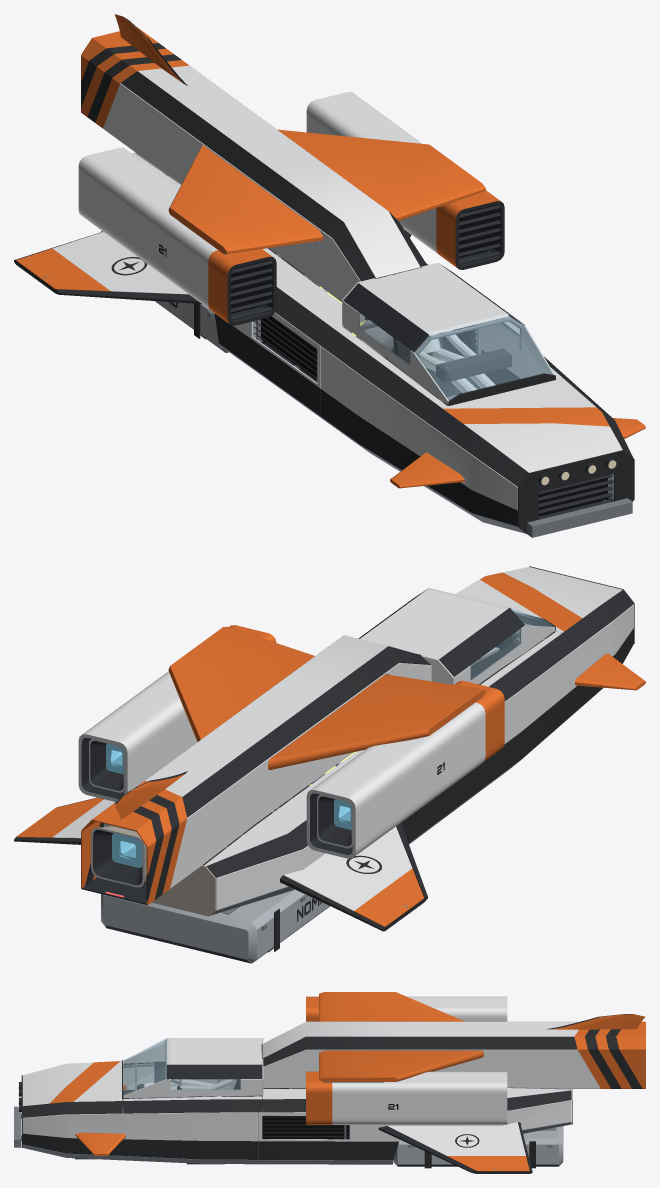
File: NOMAD_V2.fbx
3 views of the same model, one above another, from view 1: azimuth 30°, elevation 25°; view 2: azimuth 150°, elevation 25°; view 3: azimuth 270°, elevation 25° (orthographic). The views are drawn at different scales.
Visible parts, largest first — view 1: Boom_Top, Cabin_Top, Pod_Shroud_L, Nose_Top, Side_Front_L, Boom_Side_L, Pod_Arm_R, Pod_Arm_L, Pod_Shroud_R, Stabilizer_Top_L, Radiators, Side_Mid_L (+18 smaller); view 2: Boom_Top, Pod_Shroud_L, Boom_Side_L, Pod_Arm_L, Cargo_Module, Pod_Arm_R, Cabin_Top, Side_Front_L, Pod_Shroud_R, Nose_Top, Stabilizer_Top_L, Deck_Boom_L (+15 smaller); view 3: Boom_Top, Pod_Shroud_R, Side_Front_R, Boom_Side_R, Cabin_Top, Nose_Top, Stabilizer_Top_R, Pod_Arm_R, Side_Mid_R, Pod_Arm_L, Deck_Cabin_R, Pod_Shroud_L (+16 smaller).
Part boxes in pixels (bbox=[...]): Boom_Top: bbox=[81, 27, 426, 281]; Cabin_Top: bbox=[343, 263, 554, 400]; Pod_Shroud_L: bbox=[78, 147, 276, 325]; Nose_Top: bbox=[427, 378, 633, 486]; Side_Front_L: bbox=[321, 346, 517, 526]; Boom_Side_L: bbox=[81, 54, 364, 318]; Pod_Arm_R: bbox=[277, 129, 485, 220]; Pod_Arm_L: bbox=[168, 145, 323, 253]; Pod_Shroud_R: bbox=[306, 92, 504, 269]; Stabilizer_Top_L: bbox=[16, 232, 188, 294]; Radiators: bbox=[254, 316, 612, 519]; Side_Mid_L: bbox=[214, 312, 320, 416]; Boom_Top: bbox=[81, 635, 430, 846]; Pod_Shroud_L: bbox=[306, 680, 504, 858]; Boom_Side_L: bbox=[146, 663, 431, 904]; Pod_Arm_L: bbox=[268, 674, 485, 770]; Cargo_Module: bbox=[101, 811, 329, 963]; Pod_Arm_R: bbox=[168, 626, 314, 741]; Cabin_Top: bbox=[358, 588, 554, 676]; Side_Front_L: bbox=[482, 604, 633, 787]; Pod_Shroud_R: bbox=[78, 625, 276, 801]; Nose_Top: bbox=[456, 567, 633, 647]; Stabilizer_Top_L: bbox=[283, 826, 424, 926]; Deck_Boom_L: bbox=[204, 750, 364, 877]; Boom_Top: bbox=[262, 1021, 645, 1066]; Pod_Shroud_R: bbox=[306, 1071, 507, 1124]; Side_Front_R: bbox=[22, 1112, 257, 1159]; Boom_Side_R: bbox=[263, 1049, 645, 1088]; Cabin_Top: bbox=[123, 1038, 262, 1095]; Nose_Top: bbox=[22, 1061, 122, 1117]; Stabilizer_Top_R: bbox=[387, 1122, 529, 1171]; Pod_Arm_R: bbox=[319, 1050, 483, 1081]; Side_Mid_R: bbox=[258, 1112, 431, 1160]; Pod_Arm_L: bbox=[319, 992, 464, 1021]; Deck_Cabin_R: bbox=[123, 1096, 262, 1113]; Pod_Shroud_L: bbox=[306, 996, 507, 1021].
Size of the model in its own units: 330 by 167 by 725.
